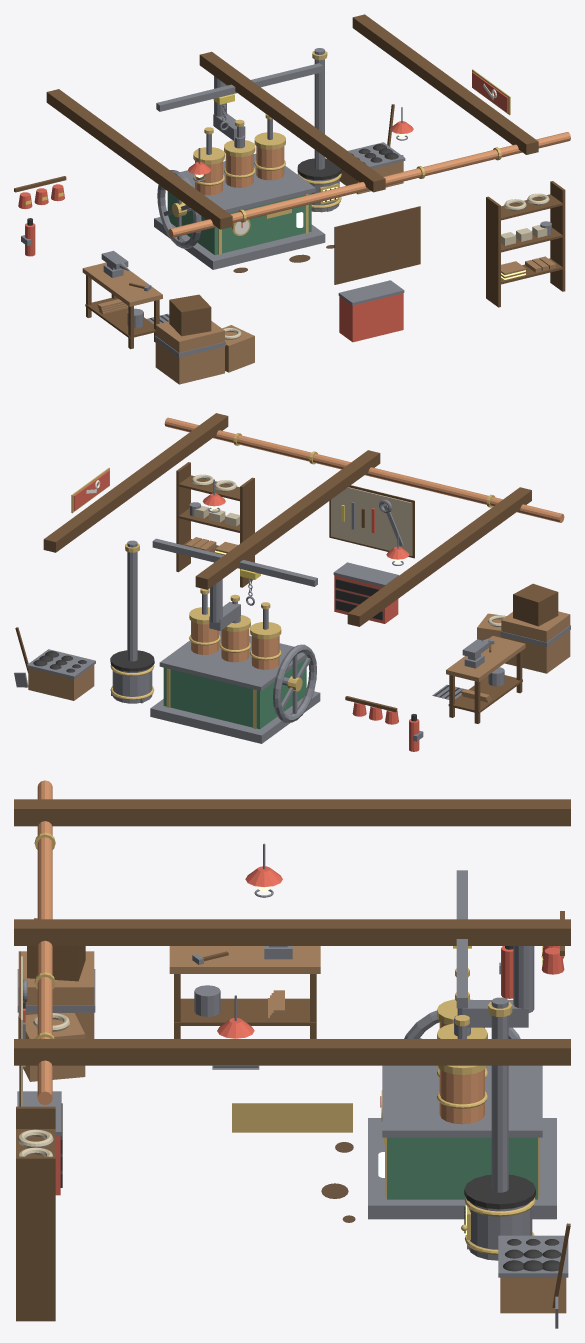
File: engine_room.glb
3 renders of one model, top to bottom at view 1: azimuth 30°, elevation 25°; view 2: azimuth 150°, elevation 25°; view 3: azimuth 270°, elevation 25°, orthographic. The views are drawn at different scales.
Parts seen in each view (by area): view 1: tool_wall_frame, ceiling_beam_0, ceiling_beam_2, ceiling_beam_1, ceiling_pipe_starboard, col_crate_big, engine_crankcase, engine_deck, col_tool_chest, engine_bed, col_stern_bench_top, col_supply_upright_-5.63 (+16 smaller); view 2: engine_crankcase, ceiling_beam_2, ceiling_beam_0, ceiling_beam_1, tool_wall_board, ceiling_pipe_starboard, engine_deck, col_crate_big, engine_bed, crate_top, hoist_rail, col_coal_bin (+22 smaller); view 3: ceiling_beam_0, ceiling_beam_2, ceiling_beam_1, engine_deck, engine_crankcase, col_supply_upright_-4.37, engine_bed, ceiling_pipe_starboard, col_stern_bench_top, sign_engine_room_trim, furnace_chimney, stern_bench_shelf (+14 smaller).
Part boxes in pixels (left/top/right/bottom): tool_wall_frame: left=334, top=206, right=420, bottom=284; ceiling_beam_0: left=46, top=89, right=232, bottom=229; ceiling_beam_2: left=352, top=14, right=538, bottom=154; ceiling_beam_1: left=199, top=51, right=385, bottom=192; ceiling_pipe_starboard: left=168, top=132, right=570, bottom=237; col_crate_big: left=155, top=321, right=224, bottom=384; engine_crankcase: left=167, top=191, right=311, bottom=255; engine_deck: left=180, top=153, right=315, bottom=213; col_tool_chest: left=339, top=293, right=403, bottom=342; engine_bed: left=154, top=217, right=325, bottom=269; col_stern_bench_top: left=82, top=262, right=162, bottom=306; col_supply_upright_-5.63: left=486, top=196, right=500, bottom=307; engine_crankcase: left=163, top=658, right=306, bottom=729; ceiling_beam_2: left=43, top=413, right=228, bottom=552; ceiling_beam_0: left=347, top=487, right=531, bottom=626; ceiling_beam_1: left=195, top=450, right=380, bottom=589; tool_wall_board: left=331, top=487, right=412, bottom=555; ceiling_pipe_starboard: left=164, top=417, right=564, bottom=522; engine_deck: left=159, top=631, right=306, bottom=691; col_crate_big: left=501, top=611, right=570, bottom=673; engine_bed: left=150, top=691, right=320, bottom=743; crate_top: left=513, top=583, right=558, bottom=626; hoist_rail: left=152, top=538, right=317, bottom=586; col_coal_bin: left=28, top=665, right=94, bottom=700; ceiling_beam_0: left=14, top=799, right=570, bottom=826; ceiling_beam_2: left=14, top=1039, right=570, bottom=1065; ceiling_beam_1: left=14, top=919, right=570, bottom=945; engine_deck: left=382, top=1065, right=542, bottom=1137; engine_crankcase: left=387, top=1137, right=537, bottom=1199; col_supply_upright_-4.37: left=16, top=1156, right=55, bottom=1321; engine_bed: left=368, top=1118, right=556, bottom=1219; ceiling_pipe_starboard: left=37, top=780, right=52, bottom=1104; col_stern_bench_top: left=169, top=946, right=320, bottom=973; sign_engine_room_trim: left=232, top=1103, right=352, bottom=1132; furnace_chimney: left=491, top=997, right=508, bottom=1192; stern_bench_shelf: left=174, top=998, right=315, bottom=1025.
Size of the model in its own units: 7.85 by 2.99 by 5.9.
